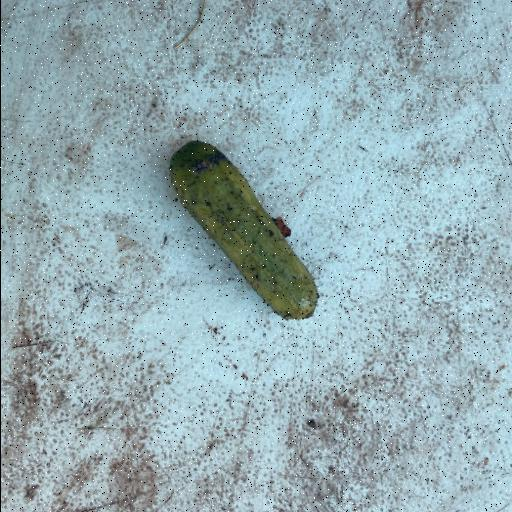Waste: (166, 138, 320, 322)
